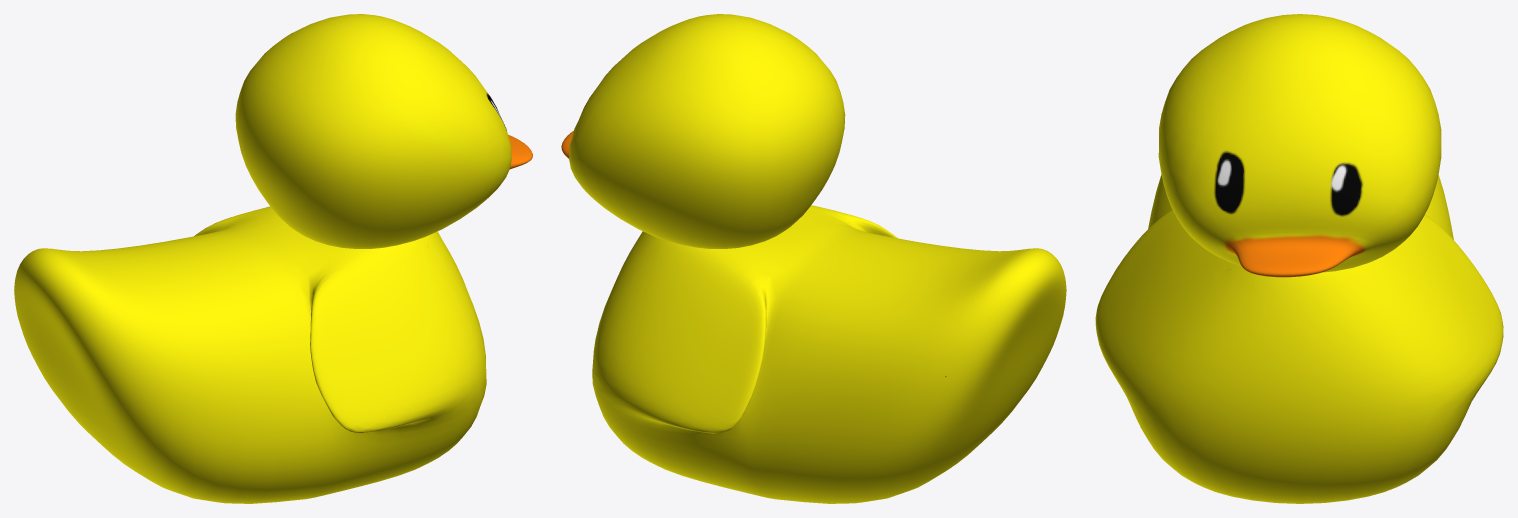
The model's file is Rubber Duck.fbx.
The picture shows the model from 3 angles, left to right: view 1: azimuth 30°, elevation 25°; view 2: azimuth 150°, elevation 25°; view 3: azimuth 270°, elevation 25°; orthographic projection. The views are drawn at different scales.
Parts seen in each view (by area): view 1: Cube; view 2: Cube; view 3: Cube.
Boxes of the visible parts, <box> form: Cube: <box>14,14,532,503</box>; Cube: <box>561,14,1066,503</box>; Cube: <box>1095,14,1503,503</box>.
Bounding box in the file's own units: 410 × 350 × 275.
1 material, 1 textured.
